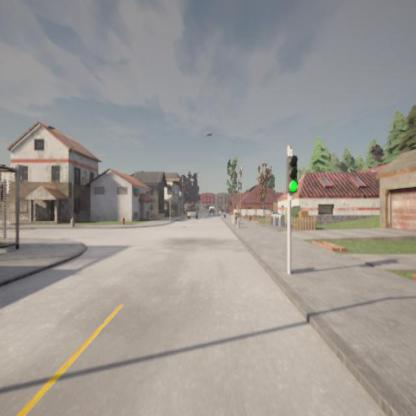traffic_light_green: (288, 155, 298, 194)
